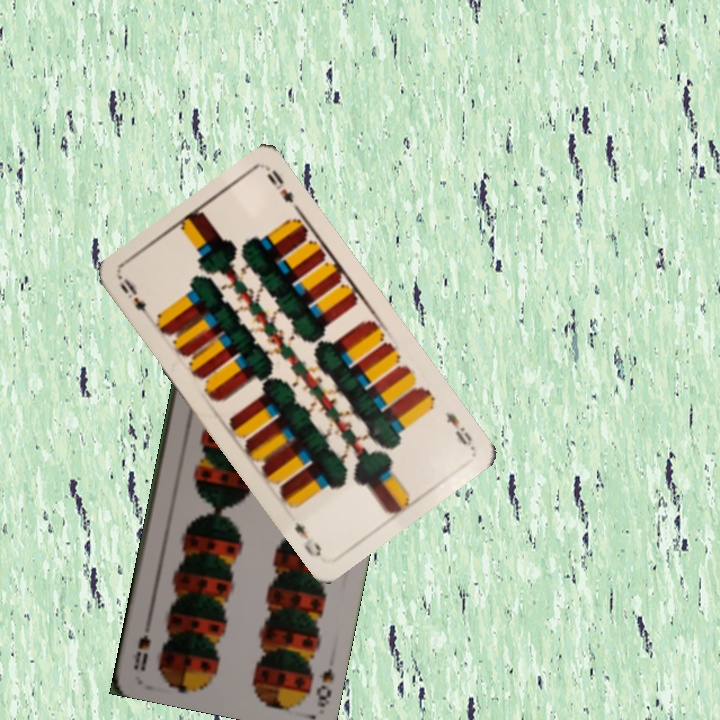E9: (115, 274, 157, 326), (441, 408, 476, 451)
S8: (312, 664, 337, 710)
